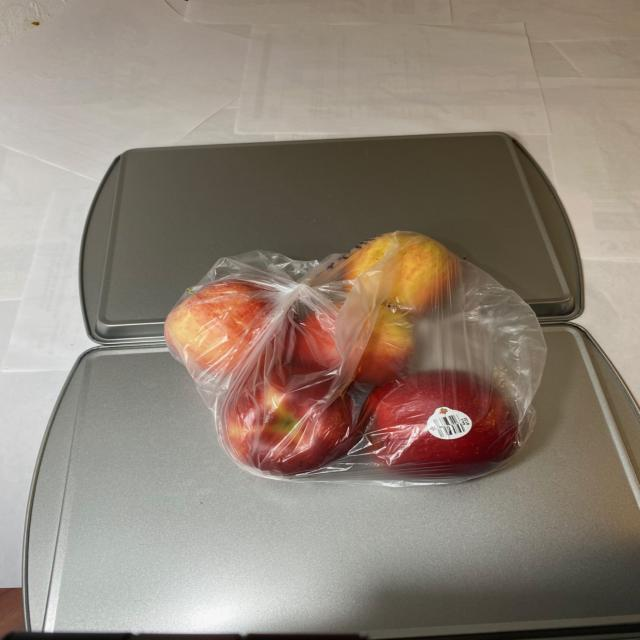apple: (156, 230, 538, 484)
